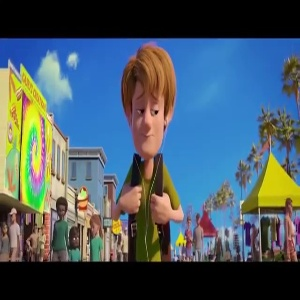Shagy: (110, 39, 195, 158)
